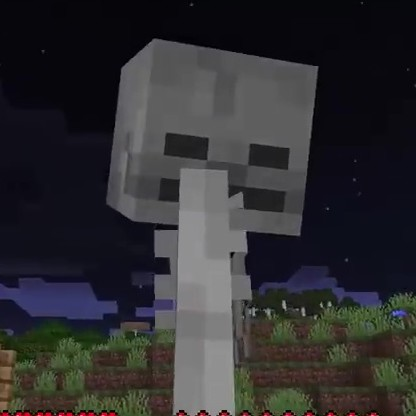skeleton: (108, 37, 323, 408)
